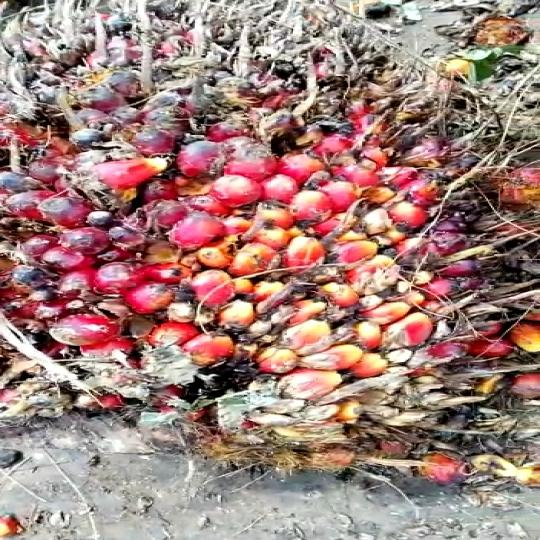masak: (0, 0, 540, 494)
